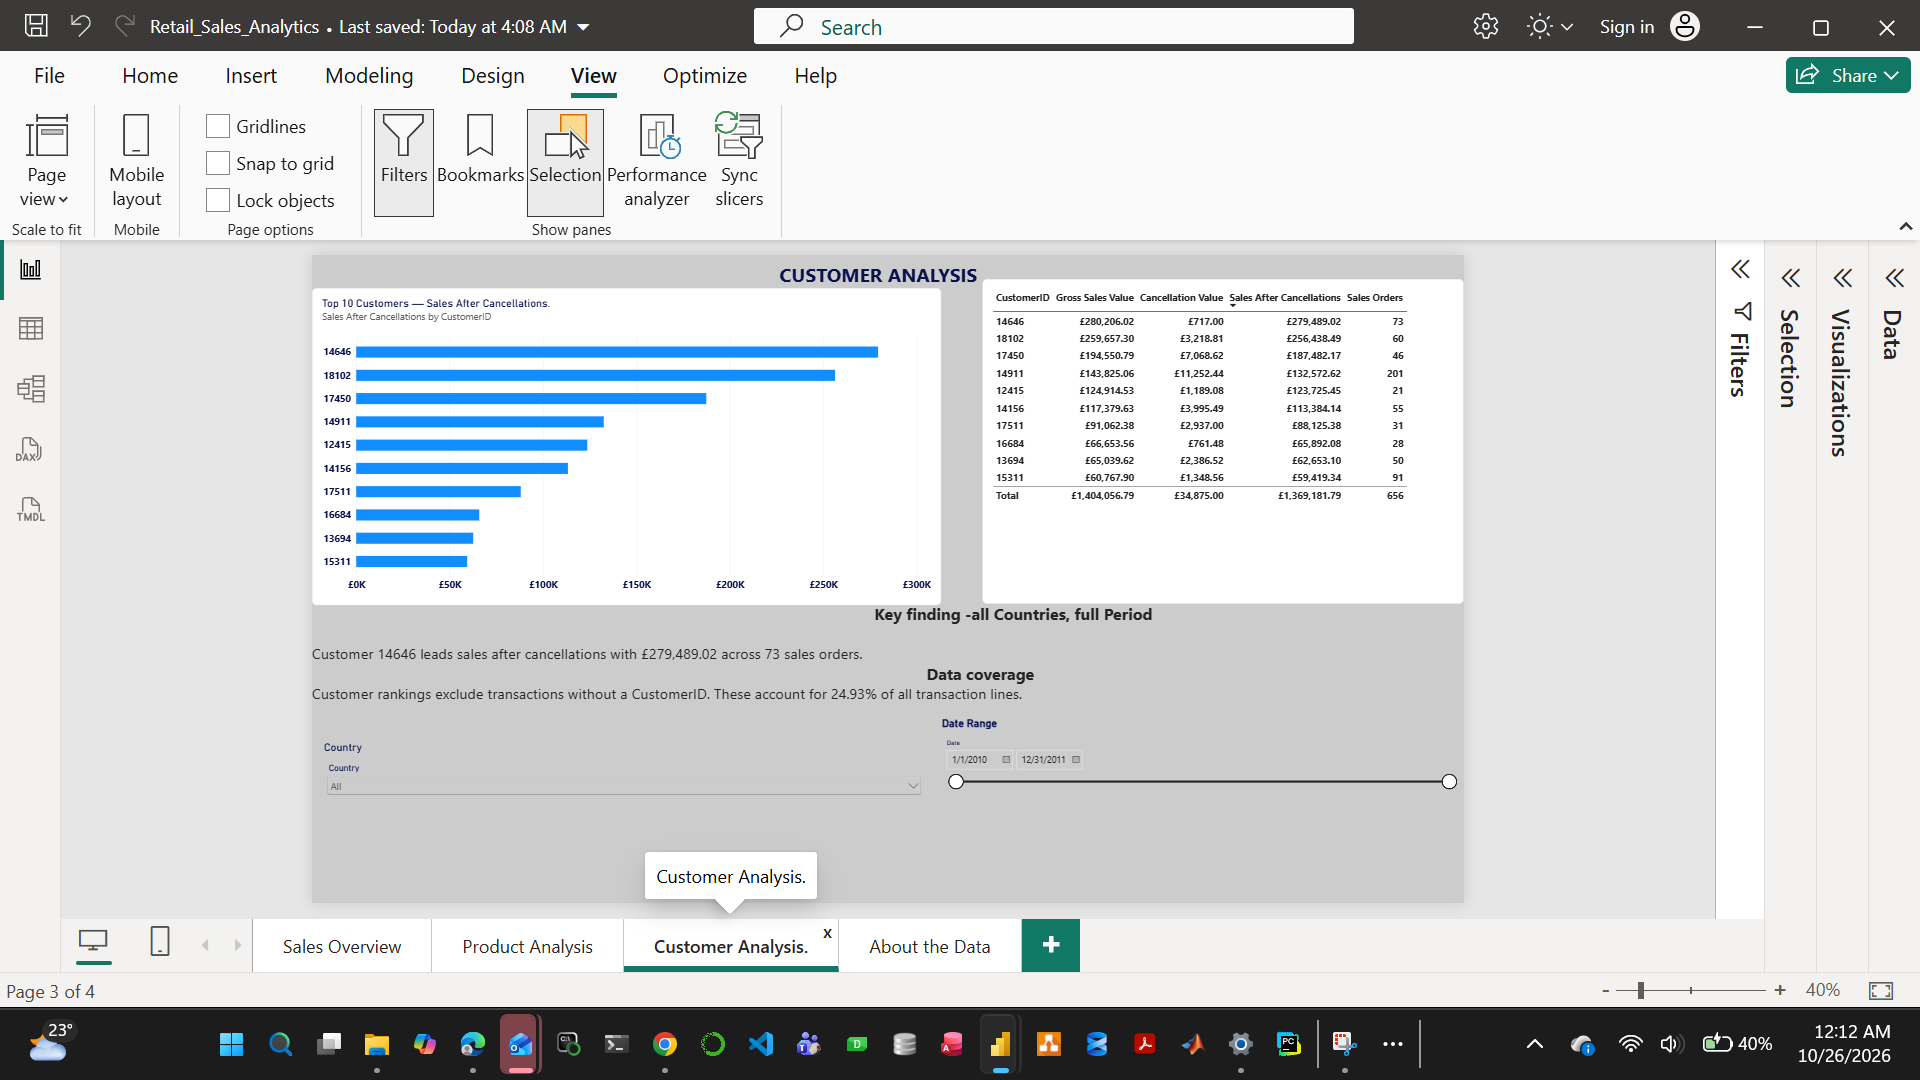

The dashboard page shown, as its layout file describes it:
{"tool":"powerbi","page":{"name":"Customer Analysis.","canvas":[1920,1080],"ordinal":2},"visuals":[{"type":"clusteredBarChart","title":"Top 10 Customers — Sales After Cancellations.","fields":{"Category":["Retail_Analysis.CustomerID"],"Y":["Retail_Analysis.Sales After Cancellations"]},"box":[0,53.8,1048.6,528.8],"z":0},{"type":"tableEx","fields":{"Values":["Retail_Analysis.CustomerID","Retail_Analysis.Gross Sales Value","Retail_Analysis.Cancellation Value","Retail_Analysis.Sales After Cancellations","Retail_Analysis.Sales Orders"]},"box":[1116.9,39.7,802.2,541.4],"z":1000},{"type":"textbox","box":[1117.4,53.8,800.7,516.9],"z":2000},{"type":"textbox","box":[0,581.1,1919.1,189.9],"z":3000},{"type":"slicer","title":"Country","fields":{"Values":["Retail_Analysis.Country"]},"box":[19.8,810.7,1000.6,99.2],"z":4000},{"type":"slicer","title":"Date Range","fields":{"Values":["Calendar.Date"]},"box":[1048.8,771,861.7,138.9],"z":5000},{"type":"textbox","box":[20.9,10,1183.1,167.3],"z":6000}]}

Visuals, with their boxes on the page's 1920x1080 design canvas (x1, y1, x2, y2). These are canvas units, not pixel positions in the 1920x1080 screenshot, which may show the page scaled, cropped or inside an application window:
"Top 10 Customers — Sales After Cancellations." clusteredBarChart: 0:54:1049:583
tableEx - Retail_Analysis.CustomerID x Retail_Analysis.Gross Sales Value: 1117:40:1919:581
textbox: 1117:54:1918:571
textbox: 0:581:1919:771
"Country" slicer: 20:811:1020:910
"Date Range" slicer: 1049:771:1910:910
textbox: 21:10:1204:177
